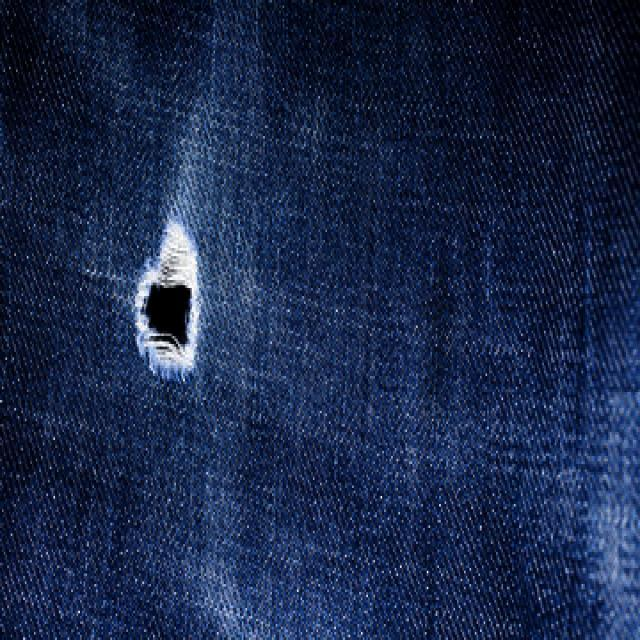seam: (136, 270, 201, 380)
